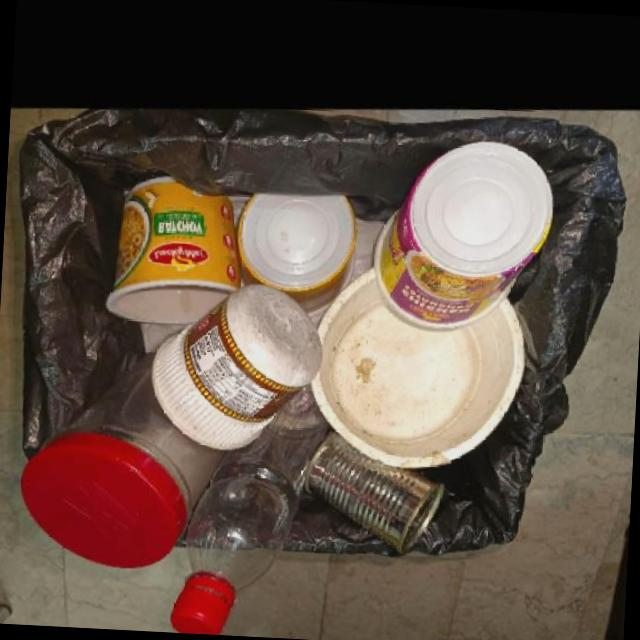chai_nhua_pet: (171, 378, 333, 634)
hop_nhua: (312, 221, 526, 463), (21, 343, 231, 560), (376, 136, 555, 327), (155, 277, 323, 442), (106, 166, 245, 316), (238, 186, 358, 303)
nhom: (298, 419, 444, 551)
